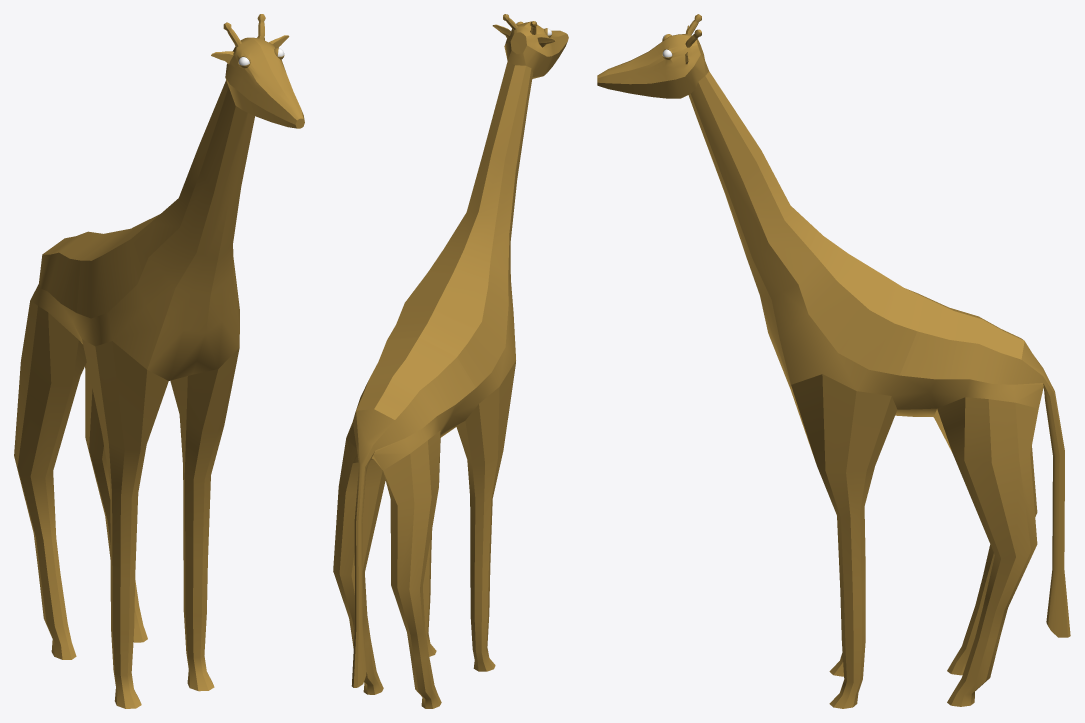
File: giraffe.fbx
3 renders of one model, left to right at view 1: azimuth 30°, elevation 25°; view 2: azimuth 150°, elevation 25°; view 3: azimuth 270°, elevation 25°, orthographic. The views are drawn at different scales.
Visible parts, largest first — view 1: pCylinder9; view 2: pCylinder9; view 3: pCylinder9.
Boxes of the visible parts, <box> form: pCylinder9: <box>14,14,304,708</box>; pCylinder9: <box>333,14,568,708</box>; pCylinder9: <box>597,14,1070,708</box>.
Bounding box in the file's own units: 54.7 × 301 × 194.
